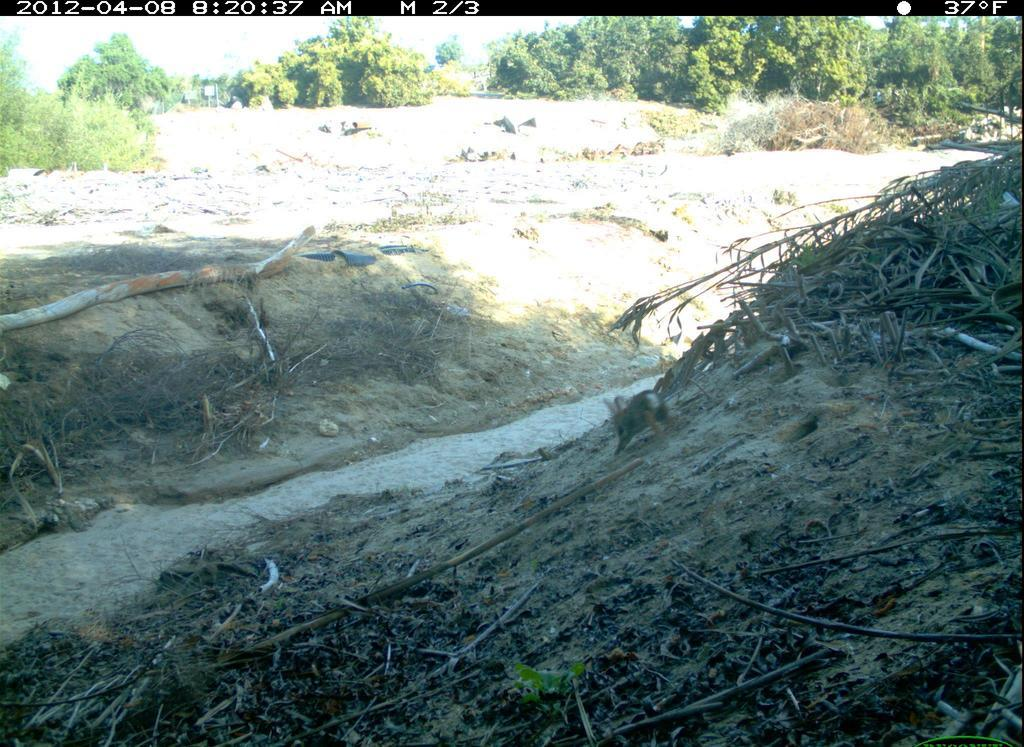rabbit: (601, 381, 673, 463)
